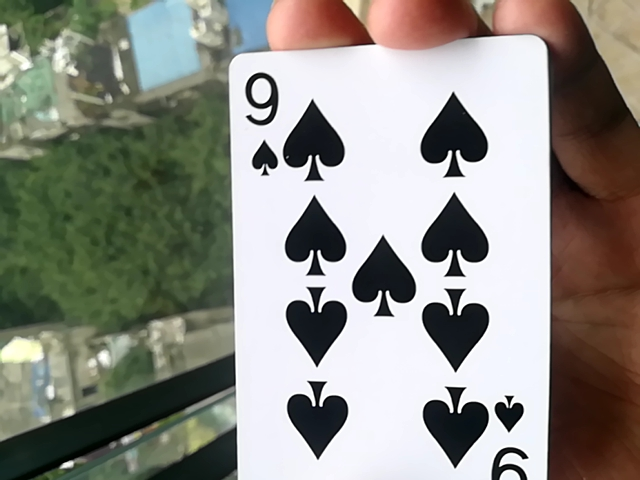ht 9: (217, 29, 540, 480)
